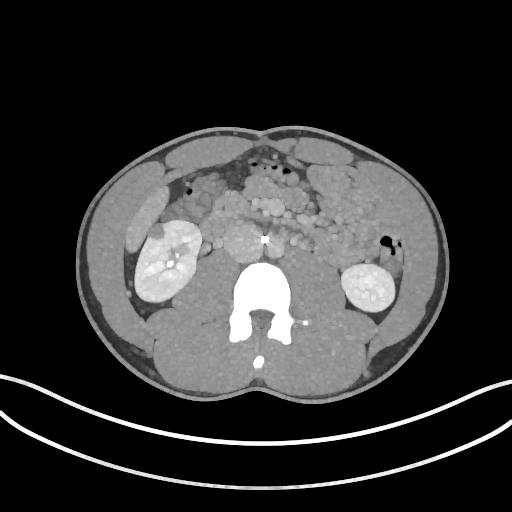Lesion: (141, 223, 167, 242)
